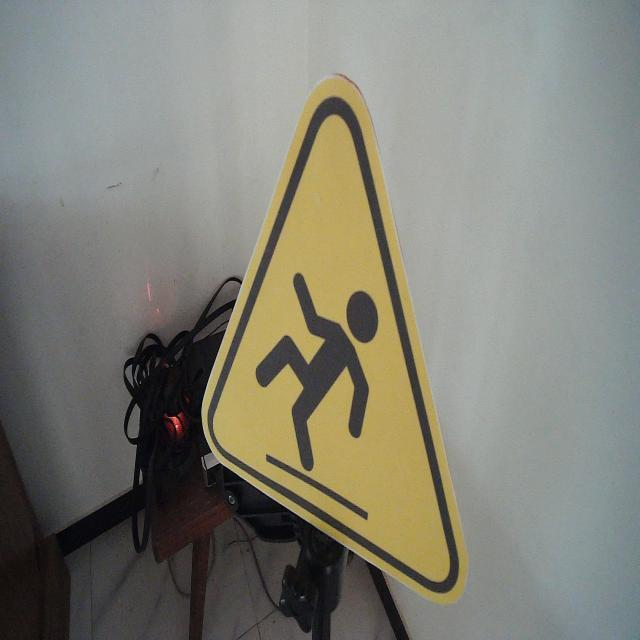slippery_sign: (200, 68, 470, 611)
